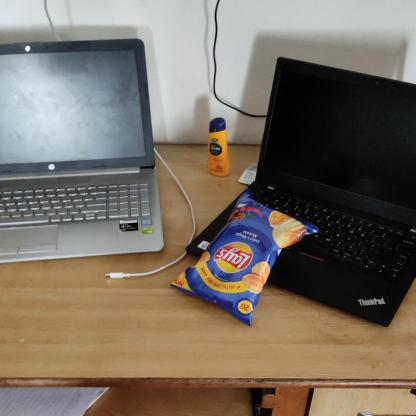indian_magic_masala: (172, 192, 316, 327)
